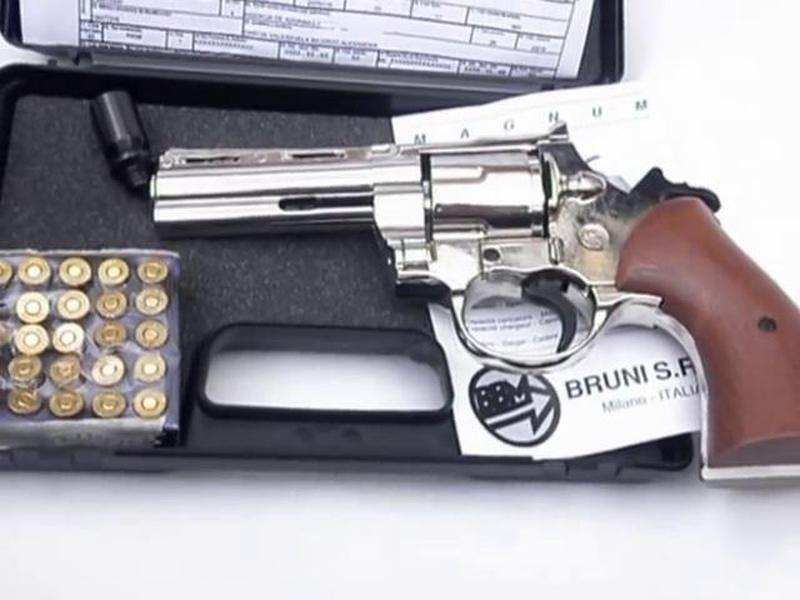Revolver: (152, 95, 800, 427)
